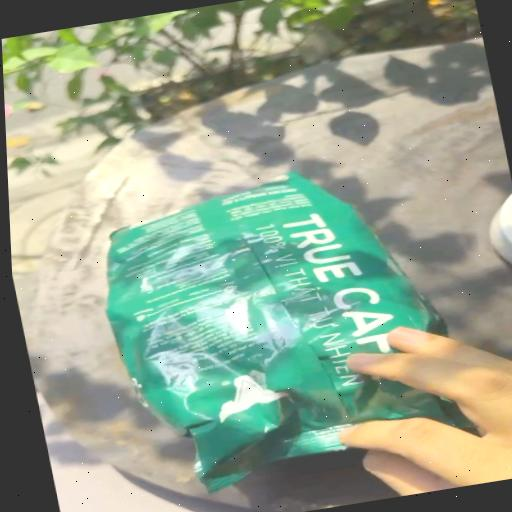cafe_xay: (105, 171, 466, 491)
